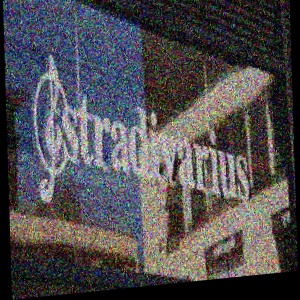stradivarius: (264, 10, 286, 75)
